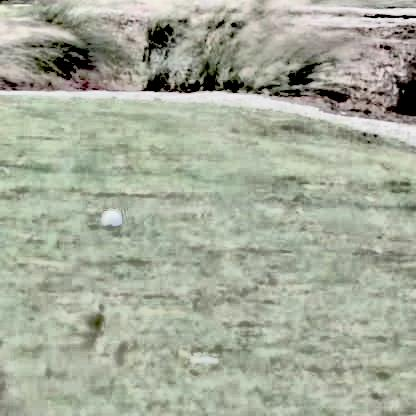golfball: (98, 207, 119, 228)
